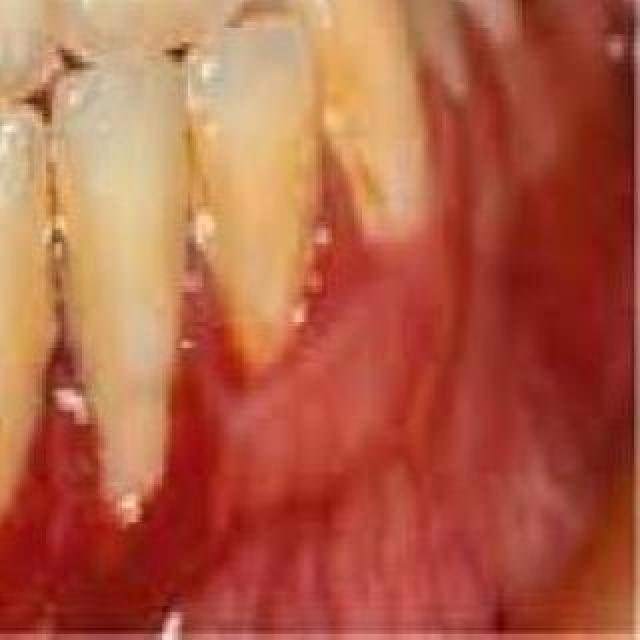calculus: (171, 145, 343, 401), (53, 232, 201, 508), (291, 29, 439, 235), (0, 256, 40, 540)
maligned: (193, 6, 359, 406), (294, 0, 480, 312)
